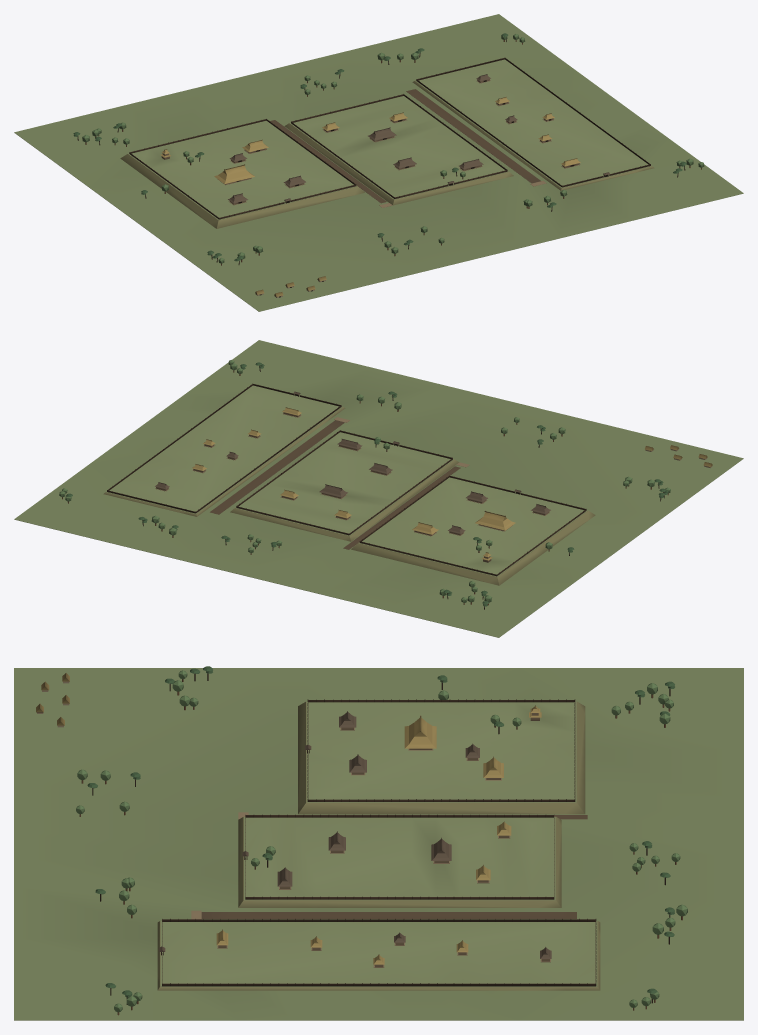
The model's file is edo-castle-1460.glb.
3 renders of one model, top to bottom at view 1: azimuth 30°, elevation 25°; view 2: azimuth 150°, elevation 25°; view 3: azimuth 270°, elevation 25°, orthographic. The views are drawn at different scales.
Parts seen in each view (by area): view 1: p0_earthworks, p2_halls, p1_palisades; view 2: p0_earthworks, p2_halls, p1_palisades; view 3: p0_earthworks, p2_halls, p1_palisades.
Boxes of the visible parts, x1,y1,x2,y2 form: p0_earthworks: (14, 14, 743, 311); p2_halls: (73, 33, 704, 297); p1_palisades: (129, 57, 650, 219); p0_earthworks: (14, 340, 743, 637); p2_halls: (59, 360, 712, 609); p1_palisades: (107, 383, 586, 576); p0_earthworks: (14, 668, 743, 1020); p2_halls: (36, 666, 687, 1015); p1_palisades: (159, 699, 596, 986).
Size of the model in its own units: 800 by 28.02 by 700.
